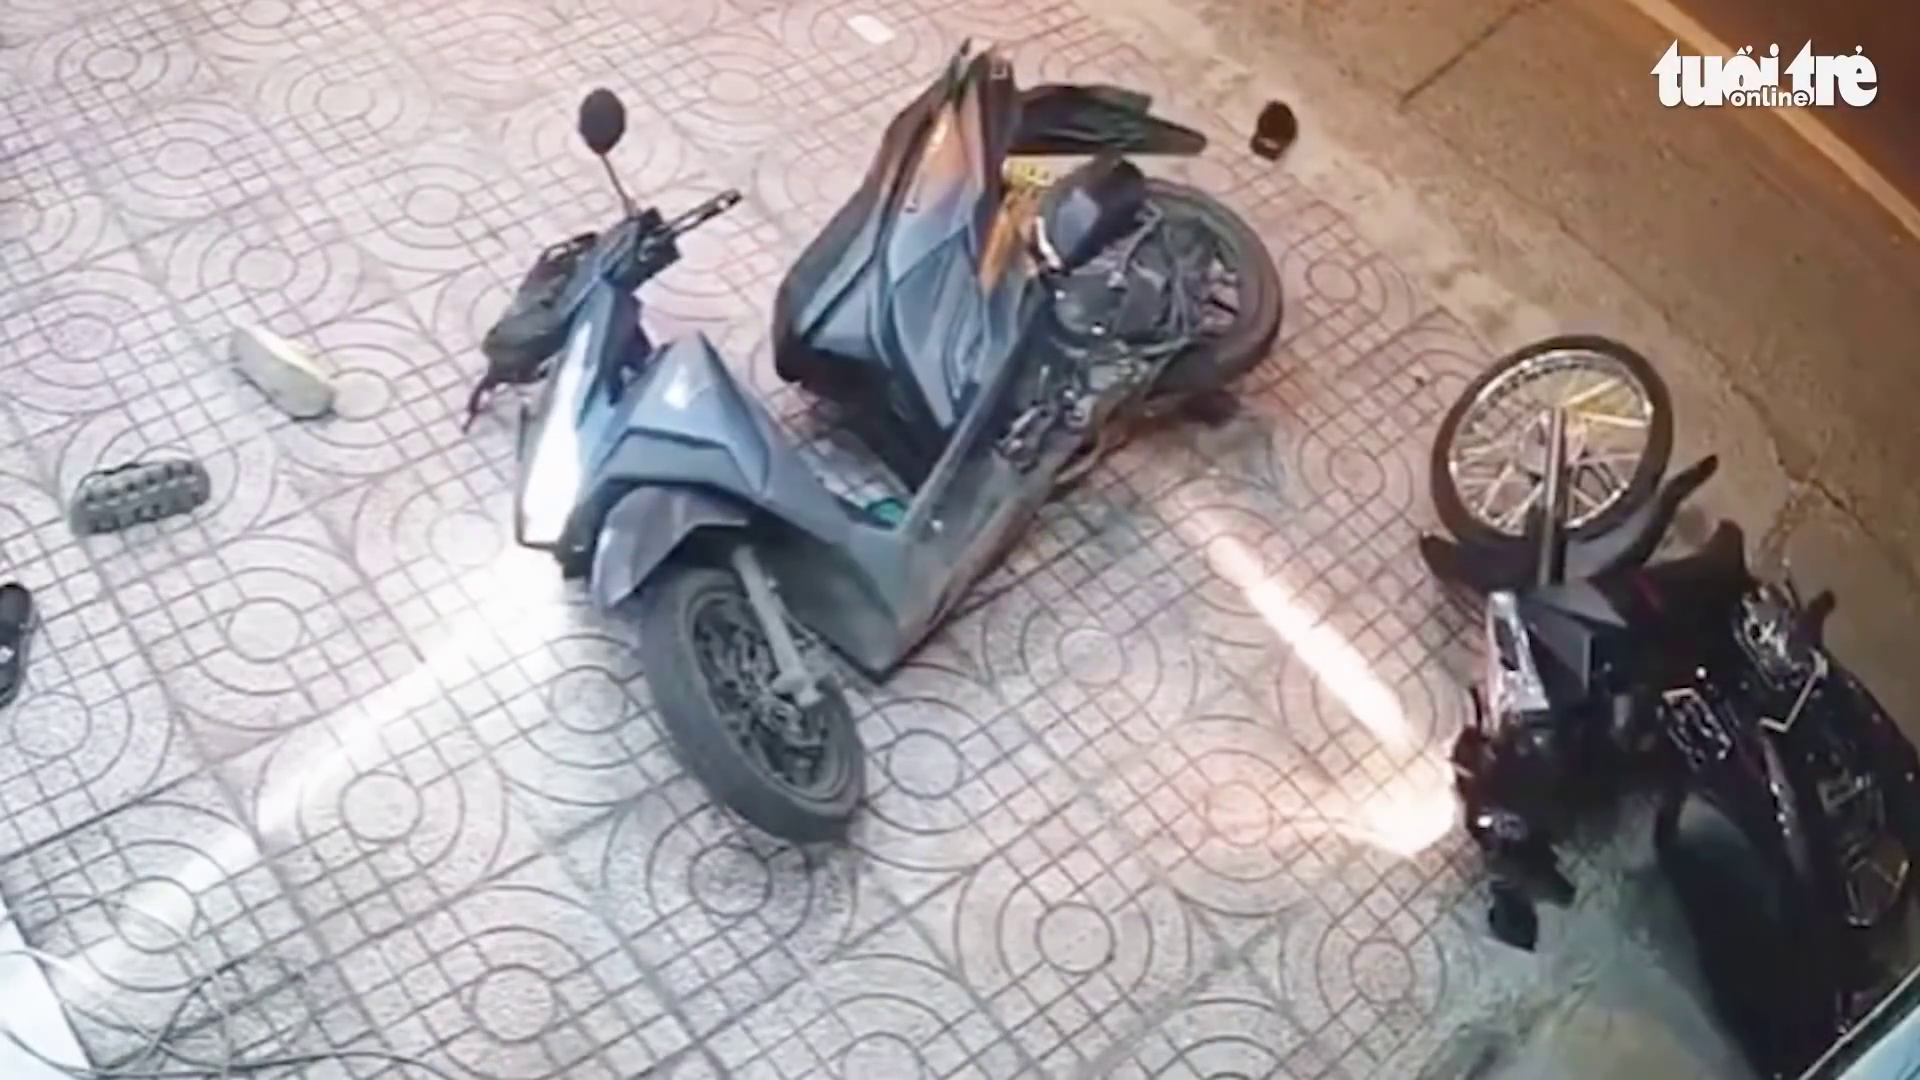Motorcycle: (464, 38, 1299, 849), (1416, 335, 1919, 1062), (462, 86, 884, 849)
